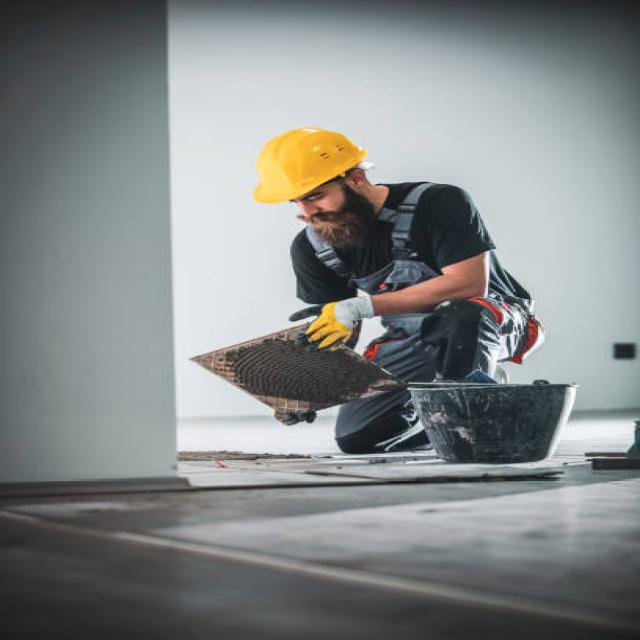gloves: (304, 295, 376, 348)
